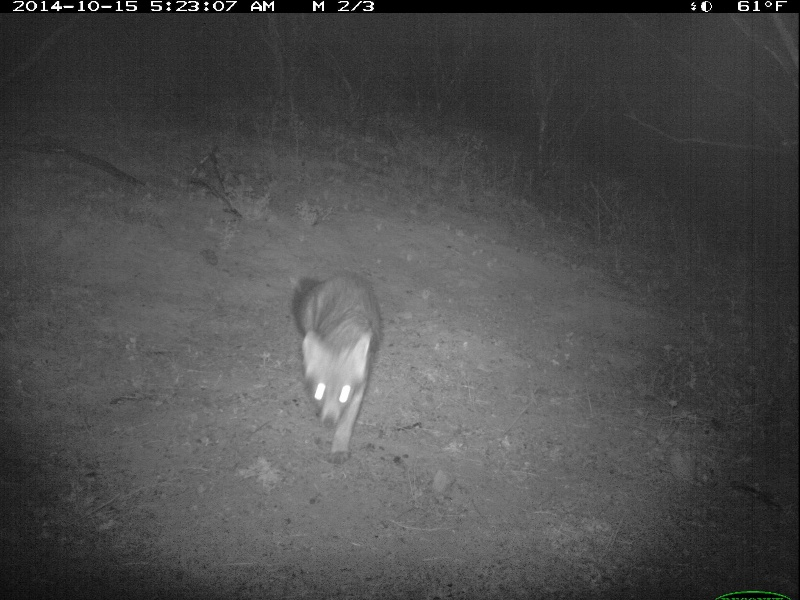fox: (286, 268, 385, 469)
